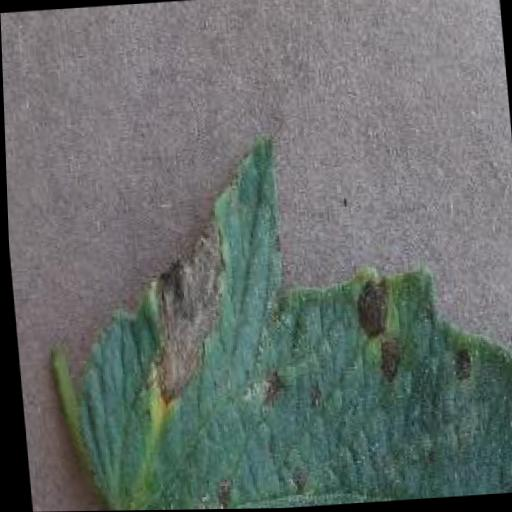Early Blight: (21, 107, 512, 512)
